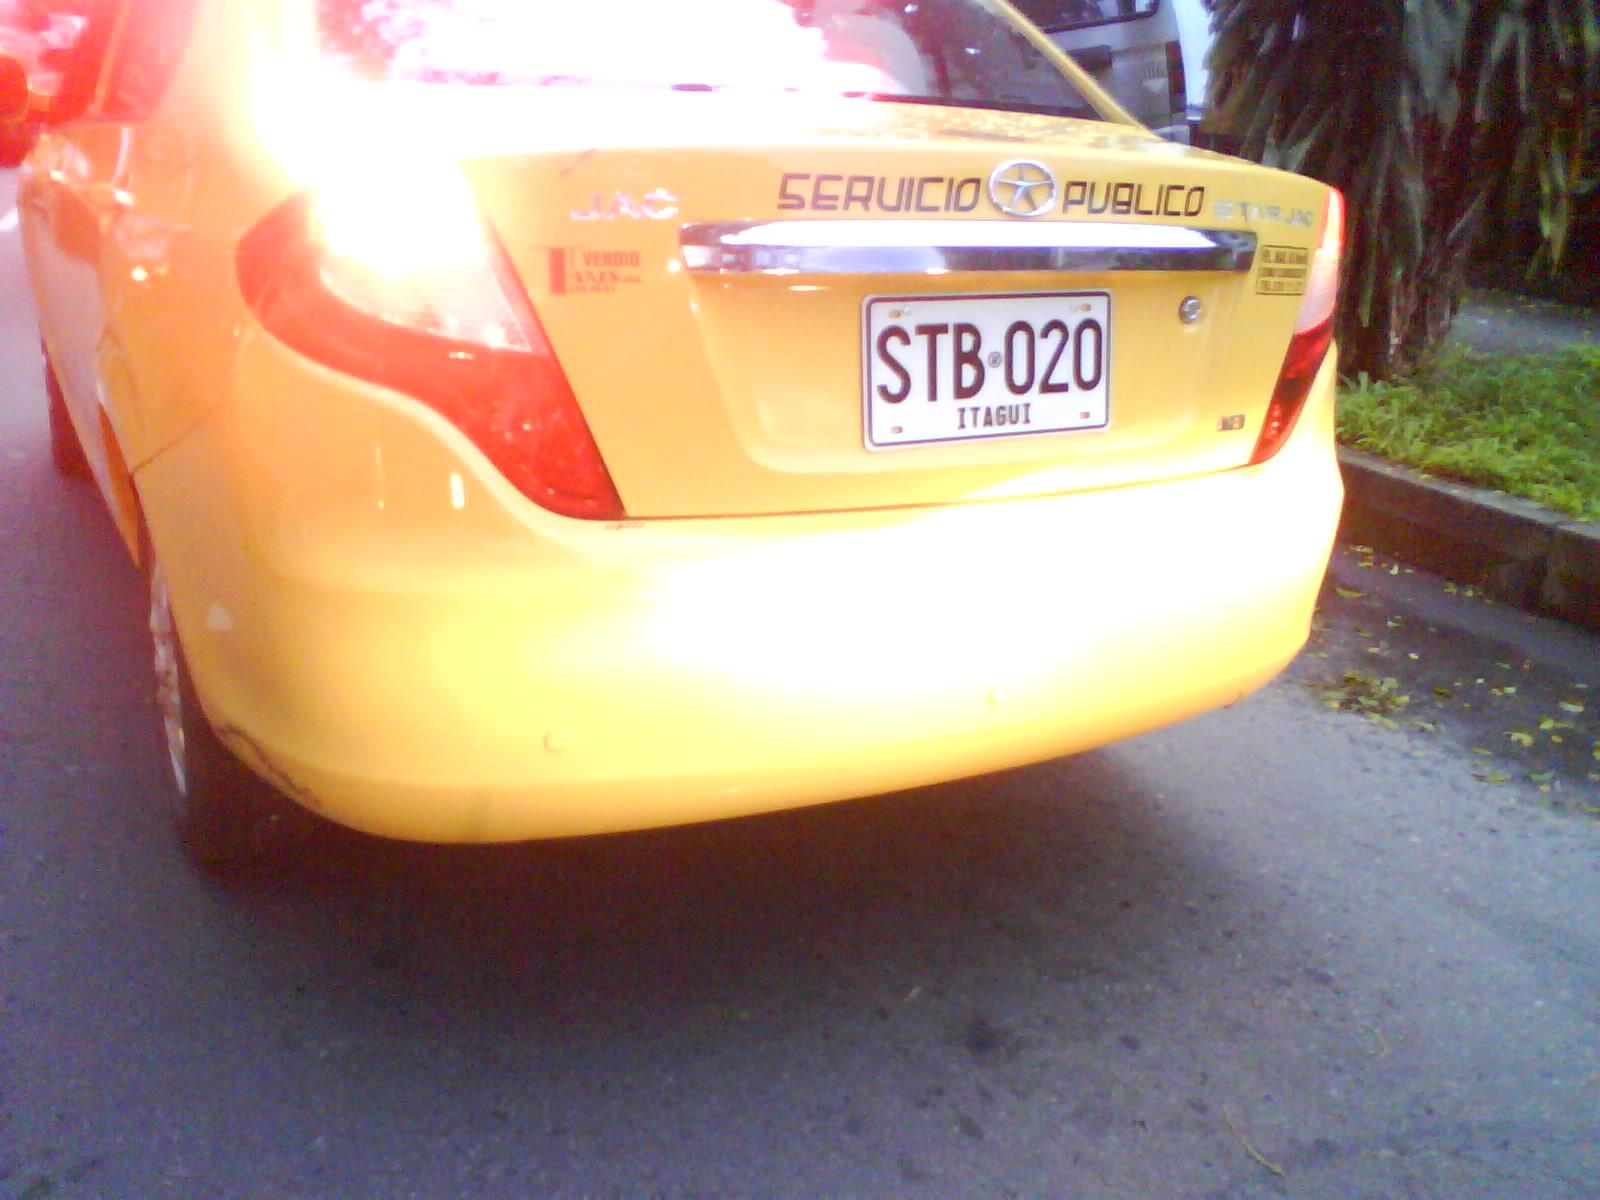placas: (853, 286, 1113, 455)
